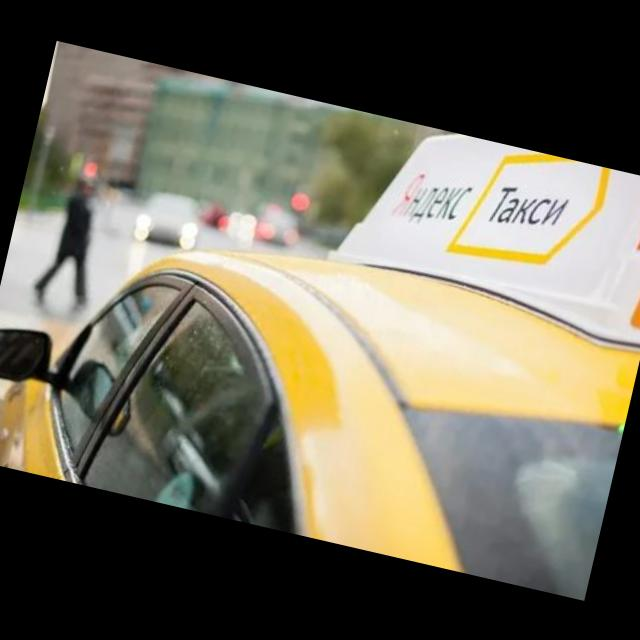taxi: (1, 41, 640, 601)
